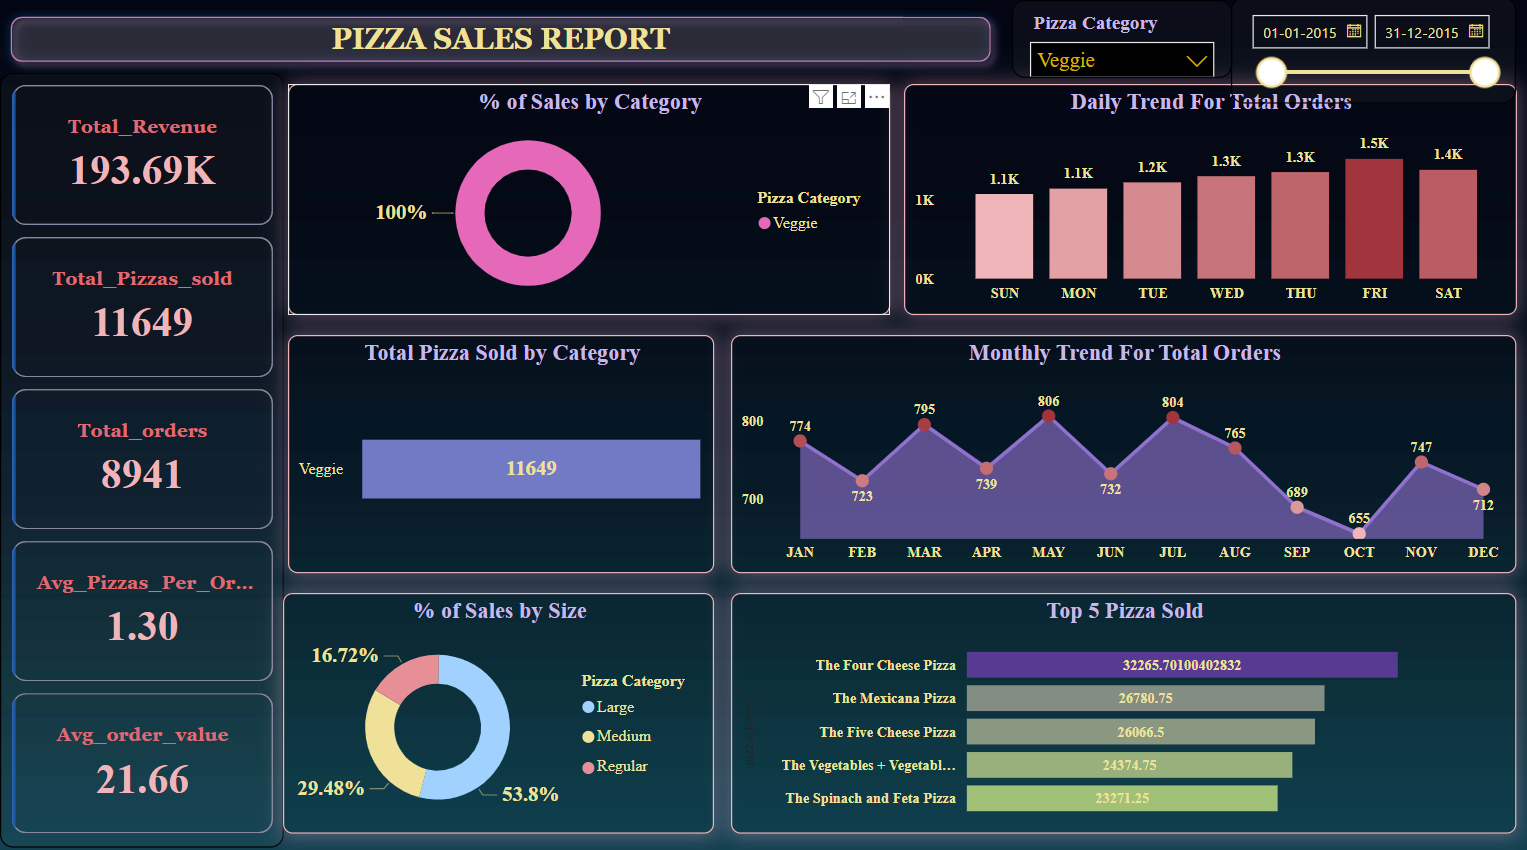

This screenshot's page, from the dashboard's own definition file:
{"tool":"powerbi","page":{"name":"Pizza_Sales","canvas":[1280,720],"ordinal":0},"visuals":[{"type":"cardVisual","fields":{"Data":["pizza_sales.Total_Revenue","pizza_sales.Total_Pizzas_sold","pizza_sales.Total_orders","pizza_sales.Avg_Pizzas_Per_Orders","pizza_sales.Avg_order_value"]},"box":[0,63.2,236.6,646.7],"z":0},{"type":"shape","box":[0,7.7,836.4,55.6],"z":1000},{"type":"clusteredColumnChart","title":"Daily Trend For Total Orders","fields":{"Category":["pizza_sales.Order Day"],"Y":["pizza_sales.Total_orders"]},"box":[755,72.8,511.6,192.6],"z":2000},{"type":"areaChart","title":"Monthly Trend For Total Orders","fields":{"Category":["pizza_sales.Order Month"],"Y":["pizza_sales.Total_orders"]},"box":[610.3,282.6,656.3,199.3],"z":3000},{"type":"donutChart","title":"% of Sales by Category","fields":{"Y":["pizza_sales.Total_Revenue"],"Category":["pizza_sales.pizza_category"]},"box":[240.5,72.8,503,192.6],"z":4000},{"type":"donutChart","title":"% of Sales by Size","fields":{"Y":["pizza_sales.Total_Revenue"],"Category":["pizza_sales.pizza_size"]},"box":[236.6,498.2,360.2,201.2],"z":5000},{"type":"funnel","title":"Total Pizza Sold by Category","fields":{"Category":["pizza_sales.pizza_category"],"Y":["pizza_sales.Total_Pizzas_sold"]},"box":[240.5,282.6,356.4,199.3],"z":6000},{"type":"clusteredBarChart","title":"Top 5 Pizza Sold","fields":{"Y":["pizza_sales.Total_Revenue"],"Category":["pizza_sales.pizza_name"]},"box":[610.3,498.2,656.3,201.2],"z":7000},{"type":"slicer","fields":{"Values":["pizza_sales.pizza_category"]},"box":[845,2.9,184,65.1],"z":8000},{"type":"slicer","fields":{"Values":["pizza_sales.order_date"]},"box":[1028.6,0,237.6,88.7],"z":9000}]}

Visuals, with their boxes in screenshot pixels (x1, y1, x2, y2), scaled from the page's 1280x720 canvas onto the 1527x850 screenshot:
cardVisual - pizza_sales.Total_Revenue x pizza_sales.Total_Pizzas_sold: select_region(0, 75, 282, 838)
shape: select_region(0, 9, 998, 75)
"Daily Trend For Total Orders" clusteredColumnChart: select_region(901, 86, 1511, 313)
"Monthly Trend For Total Orders" areaChart: select_region(728, 334, 1511, 569)
"% of Sales by Category" donutChart: select_region(287, 86, 887, 313)
"% of Sales by Size" donutChart: select_region(282, 588, 712, 826)
"Total Pizza Sold by Category" funnel: select_region(287, 334, 712, 569)
"Top 5 Pizza Sold" clusteredBarChart: select_region(728, 588, 1511, 826)
slicer - pizza_sales.pizza_category: select_region(1008, 3, 1228, 80)
slicer - pizza_sales.order_date: select_region(1227, 0, 1511, 105)
